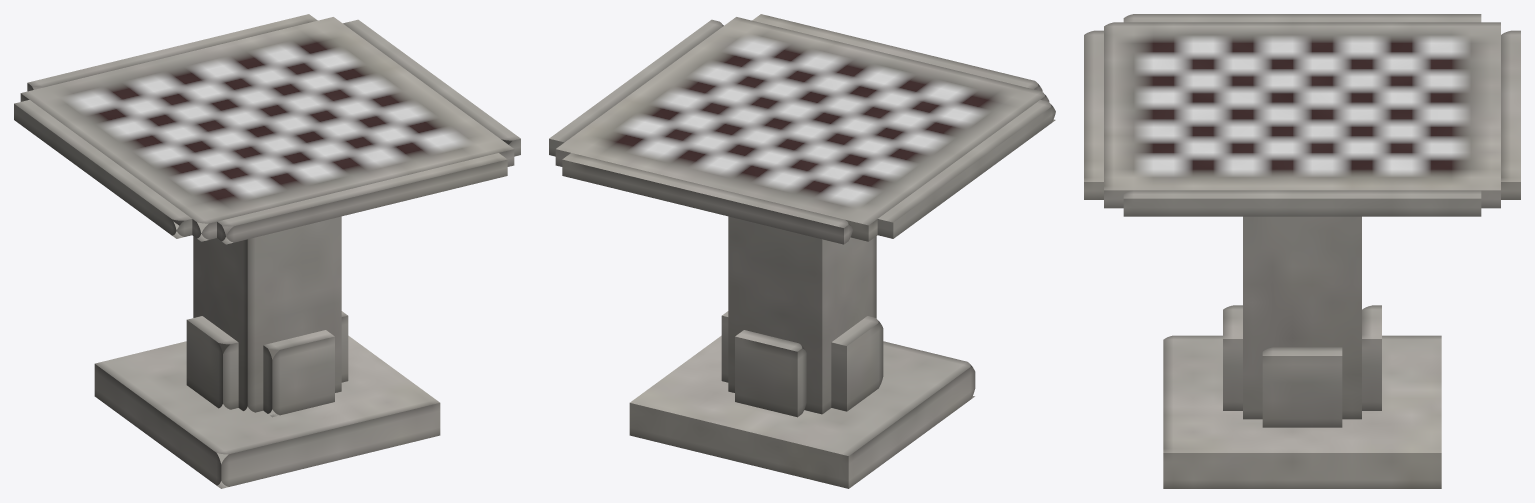
File: chesstable.obj
3 views of the same model, side by side, from view 1: azimuth 30°, elevation 25°; view 2: azimuth 150°, elevation 25°; view 3: azimuth 270°, elevation 25° (orthographic). The views are drawn at different scales.
Parts seen in each view (by area): view 1: lk, li, lj, ll, qq, lo, qr, qp, lm, ln; view 2: lk, li, lj, lm, qq, lp, qr, qp, ll, ln; view 3: lk, li, lj, qp, ln, ll, lm, qq, lo, lp.
Boxes of the visible parts, bbox=[...] form: lk: bbox=[20, 17, 514, 241]; li: bbox=[94, 335, 440, 488]; lj: bbox=[193, 216, 341, 412]; ll: bbox=[217, 153, 507, 244]; qq: bbox=[14, 100, 192, 238]; lo: bbox=[263, 330, 334, 417]; qr: bbox=[186, 316, 238, 409]; qp: bbox=[343, 19, 520, 156]; lm: bbox=[27, 14, 317, 91]; ln: bbox=[341, 311, 348, 382]; lk: bbox=[555, 17, 1049, 241]; li: bbox=[629, 335, 975, 488]; lj: bbox=[728, 216, 876, 414]; lm: bbox=[562, 153, 852, 244]; qq: bbox=[877, 100, 1055, 238]; lp: bbox=[735, 330, 806, 417]; qr: bbox=[831, 316, 883, 411]; qp: bbox=[549, 19, 723, 156]; ll: bbox=[752, 14, 1042, 91]; ln: bbox=[721, 311, 728, 382]; lk: bbox=[1104, 22, 1500, 208]; li: bbox=[1163, 335, 1441, 488]; lj: bbox=[1243, 216, 1361, 419]; qp: bbox=[1123, 190, 1481, 216]; ln: bbox=[1262, 347, 1342, 427]; ll: bbox=[1084, 30, 1103, 199]; lm: bbox=[1501, 30, 1520, 199]; qq: bbox=[1123, 14, 1481, 22]; lo: bbox=[1223, 305, 1242, 410]; lp: bbox=[1362, 305, 1381, 410].
Size of the model in its own units: 1.43 by 1.17 by 1.43.
1 material, 1 textured.
